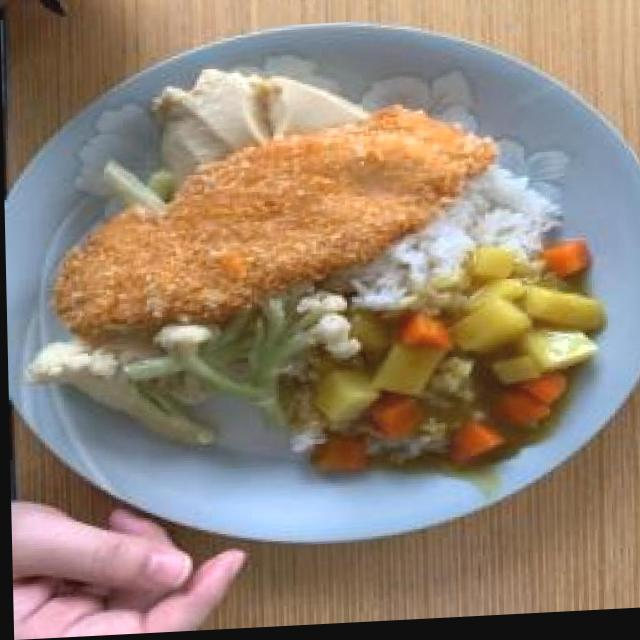curry: (292, 246, 604, 481)
fried_chicken: (42, 103, 506, 336)
rice: (343, 170, 561, 309)
